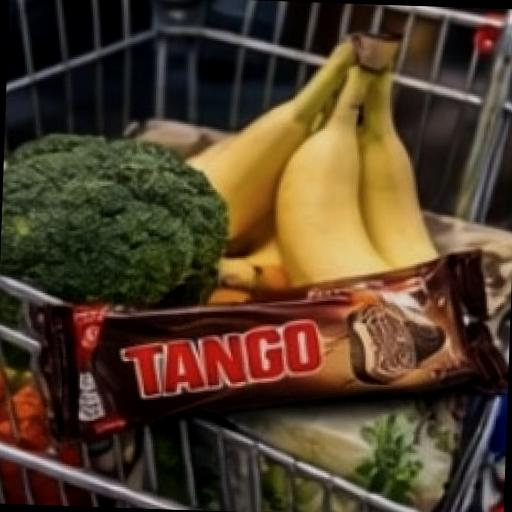tango: (13, 214, 512, 479)
